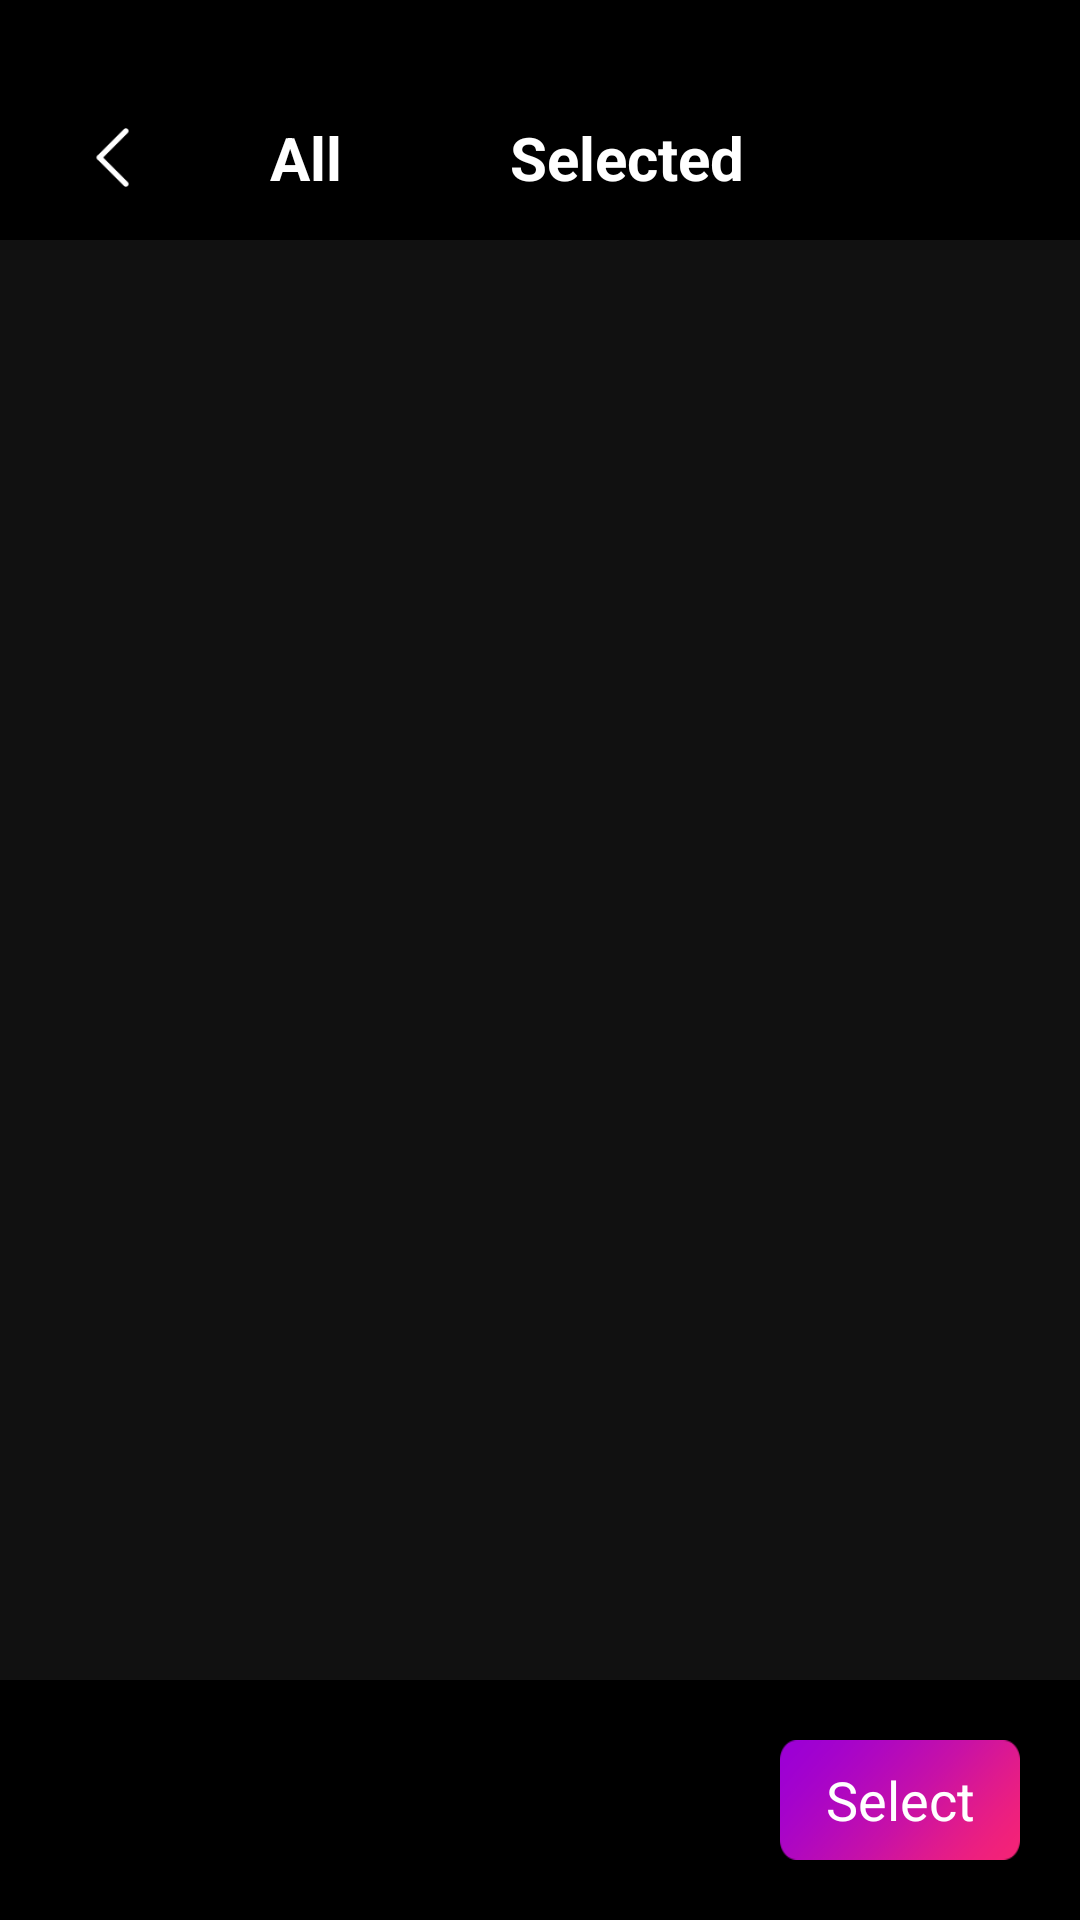

Where to tap for icons on this 1080*1920 app screen, as [x,y]:
back: [112,157]
